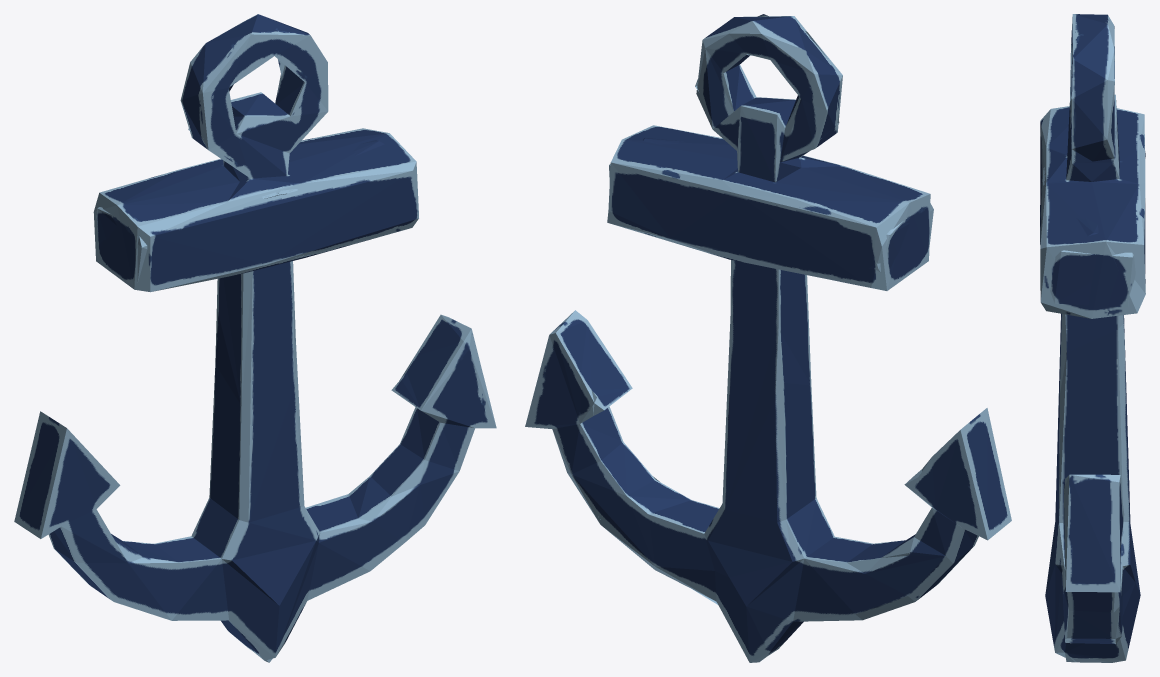
Rendered from anchor.glb.
3 renders of one model, left to right at view 1: azimuth 30°, elevation 25°; view 2: azimuth 150°, elevation 25°; view 3: azimuth 270°, elevation 25°, orthographic.
Parts seen in each view (by area): view 1: world; view 2: world; view 3: world.
Boxes of the visible parts, box(x1,y1,x2,y2) form: world: box(14, 14, 496, 662); world: box(525, 14, 1011, 662); world: box(1040, 14, 1145, 662).
Size of the model in its own units: 0.5305 by 0.7 by 0.1043.
1 material, 1 textured.
